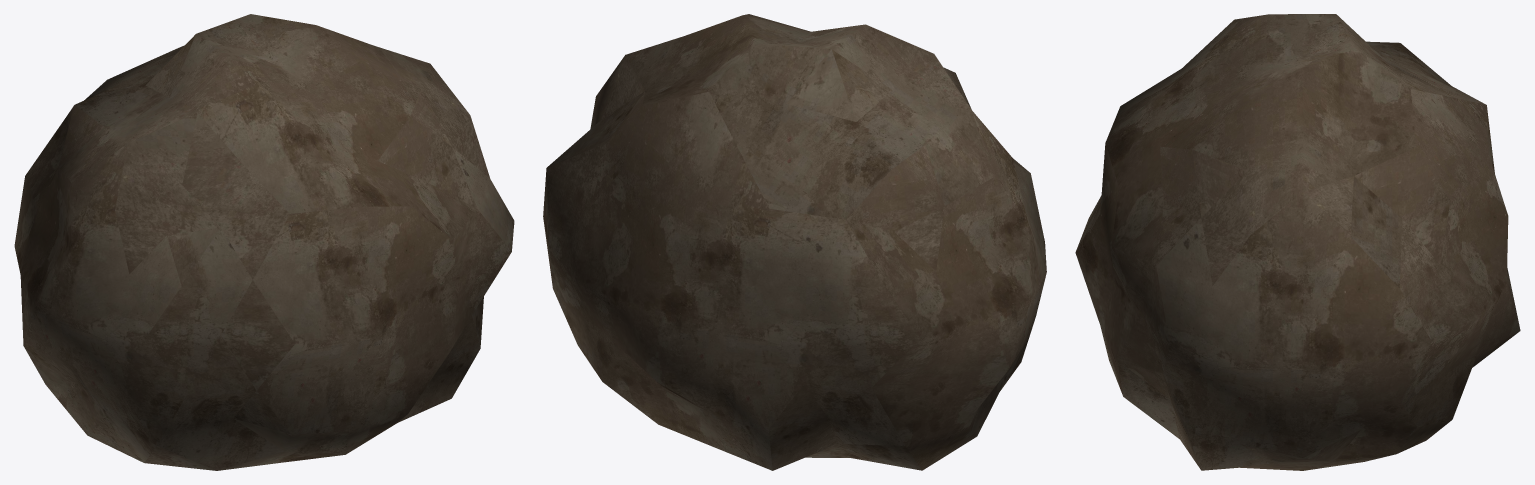
File: industrial-boulder.glb
3 views of the same model, side by side, from view 1: azimuth 30°, elevation 25°; view 2: azimuth 150°, elevation 25°; view 3: azimuth 270°, elevation 25° (orthographic). The views are drawn at different scales.
Parts seen in each view (by area): view 1: industrial-boulder; view 2: industrial-boulder; view 3: industrial-boulder.
Boxes of the visible parts, box(x1,y1,x2,y2) form: industrial-boulder: box(14, 14, 514, 470); industrial-boulder: box(543, 14, 1046, 470); industrial-boulder: box(1075, 14, 1520, 470).
Size of the model in its own units: 2.72 by 2.24 by 2.33.
1 material, 1 textured.
